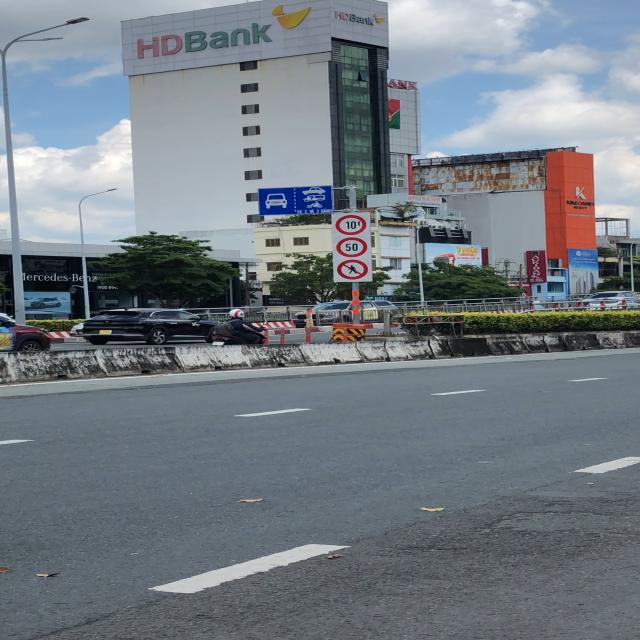Bien bao cam nguoi di bo: (334, 257, 372, 280)
Bien bao toc do toi da cho phep: (334, 236, 371, 258)
